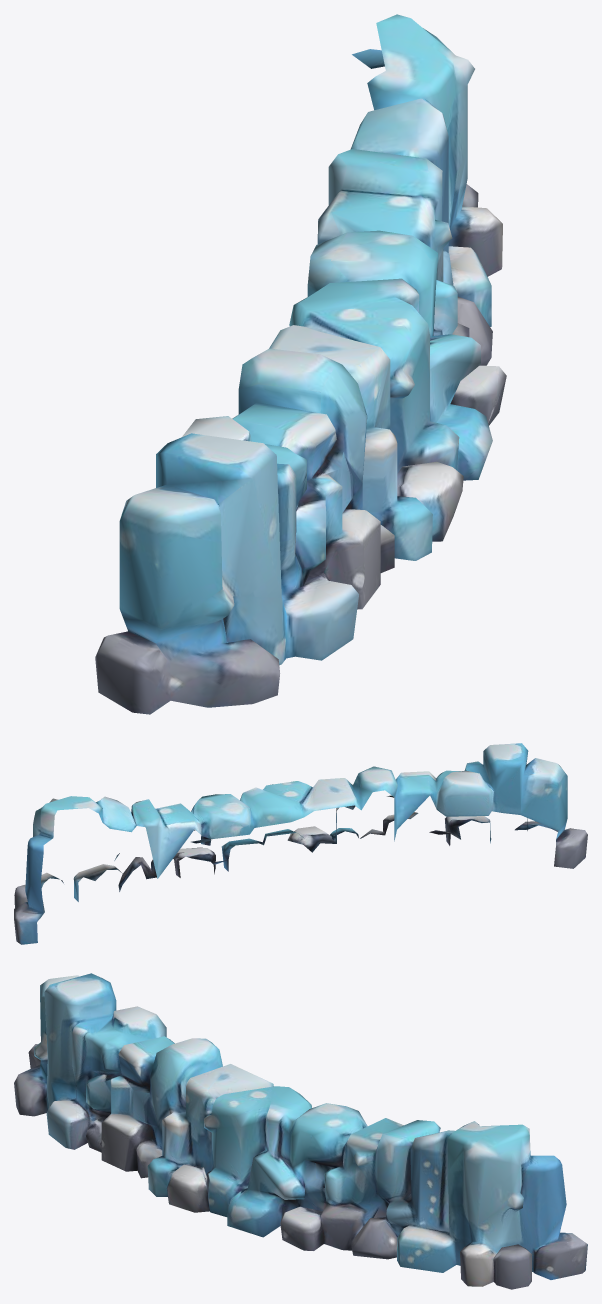
File: rockwall.glb
The picture shows the model from 3 angles, top to bottom: view 1: azimuth 30°, elevation 25°; view 2: azimuth 150°, elevation 25°; view 3: azimuth 270°, elevation 25°; orthographic projection. The views are drawn at different scales.
Parts seen in each view (by area): view 1: tripo_node_36823160-6c08-4c82-983b-b36b728178da; view 2: tripo_node_36823160-6c08-4c82-983b-b36b728178da; view 3: tripo_node_36823160-6c08-4c82-983b-b36b728178da.
Part boxes in pixels (x1,y1,x2,y2): tripo_node_36823160-6c08-4c82-983b-b36b728178da: (95,14,506,714); tripo_node_36823160-6c08-4c82-983b-b36b728178da: (14,743,587,944); tripo_node_36823160-6c08-4c82-983b-b36b728178da: (14,973,587,1289).
Bounding box in the file's own units: 0.9043 × 0.2832 × 0.998.
Materials: 1 (1 with a texture image).
